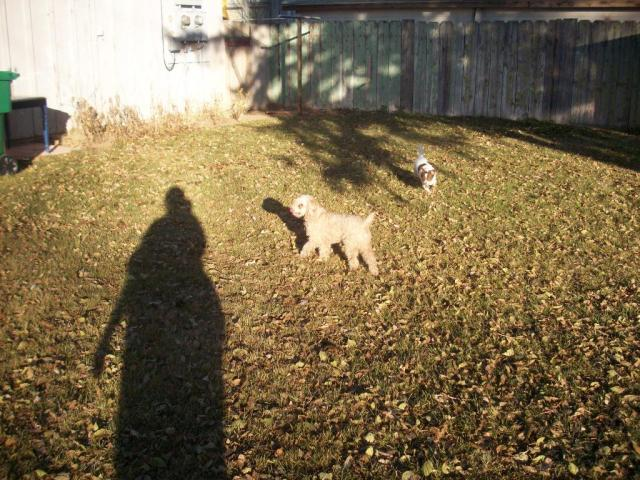Dog: (289, 193, 380, 278), (413, 146, 437, 193)
